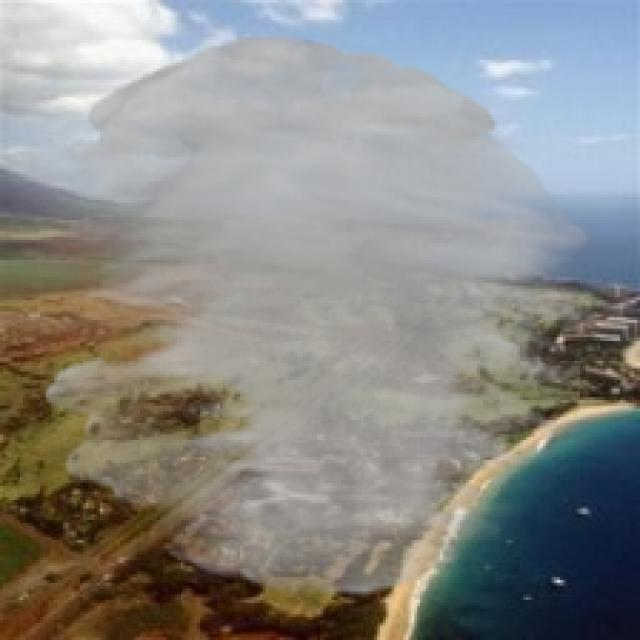smoke: (46, 37, 597, 597)
